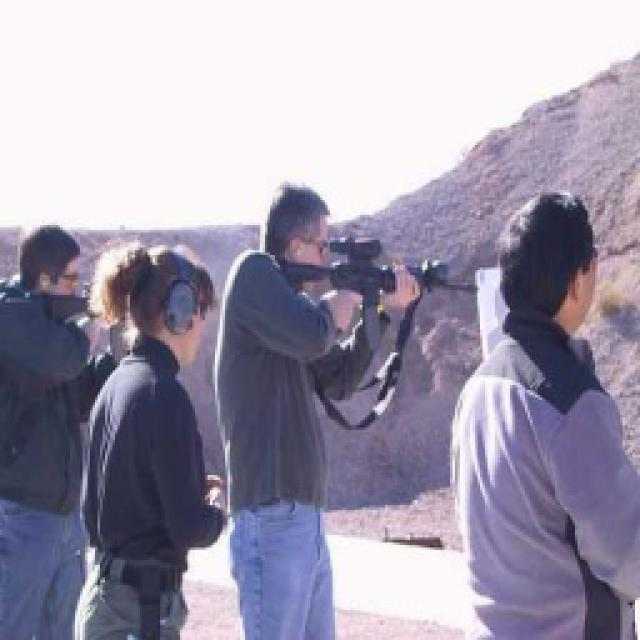long weapon: (275, 228, 494, 322)
